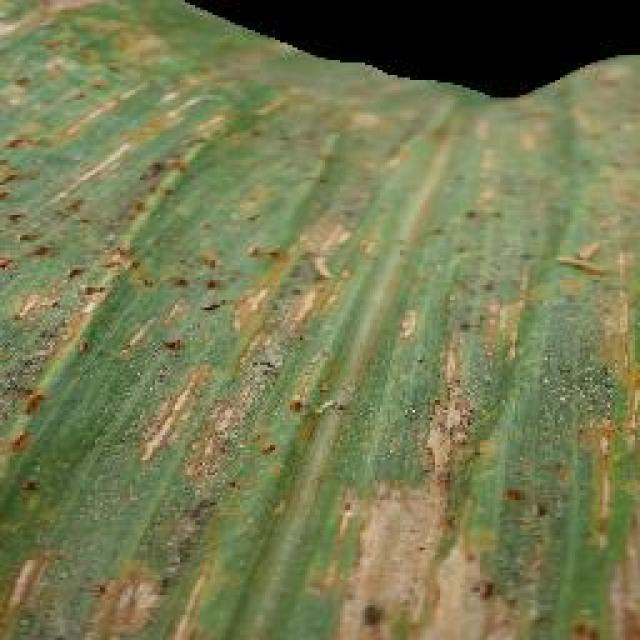Corn Common Rust: (110, 48, 517, 585)
